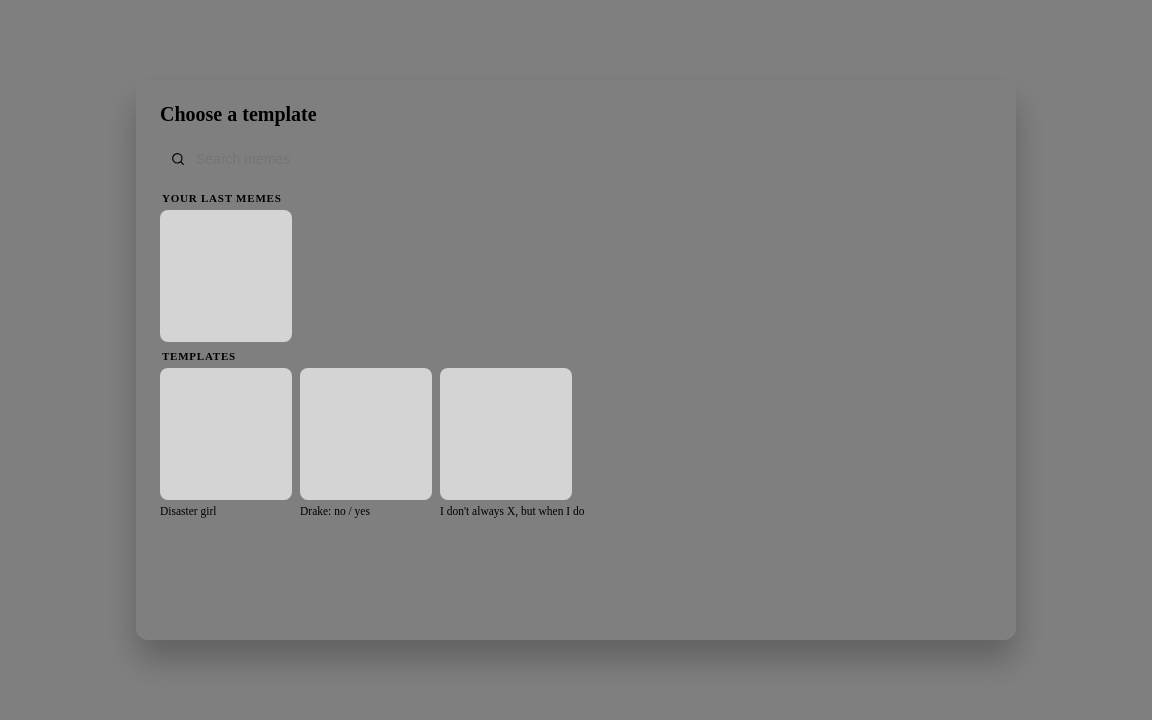
Test: MemeDialog: starts with the gallery from /meme, then edits the chosen template
This screenshot has width=1152, height=720.
Check: the dialog "Choose a template" is shown, box top-left (136, 80), bottom-right (1016, 640)
Check: the text "Your last memes" is shown, box top-left (162, 192), bottom-right (282, 204)
Click the button "Disaster girl" at {"x": 226, "y": 443}, box top-left (160, 368), bottom-right (292, 518)
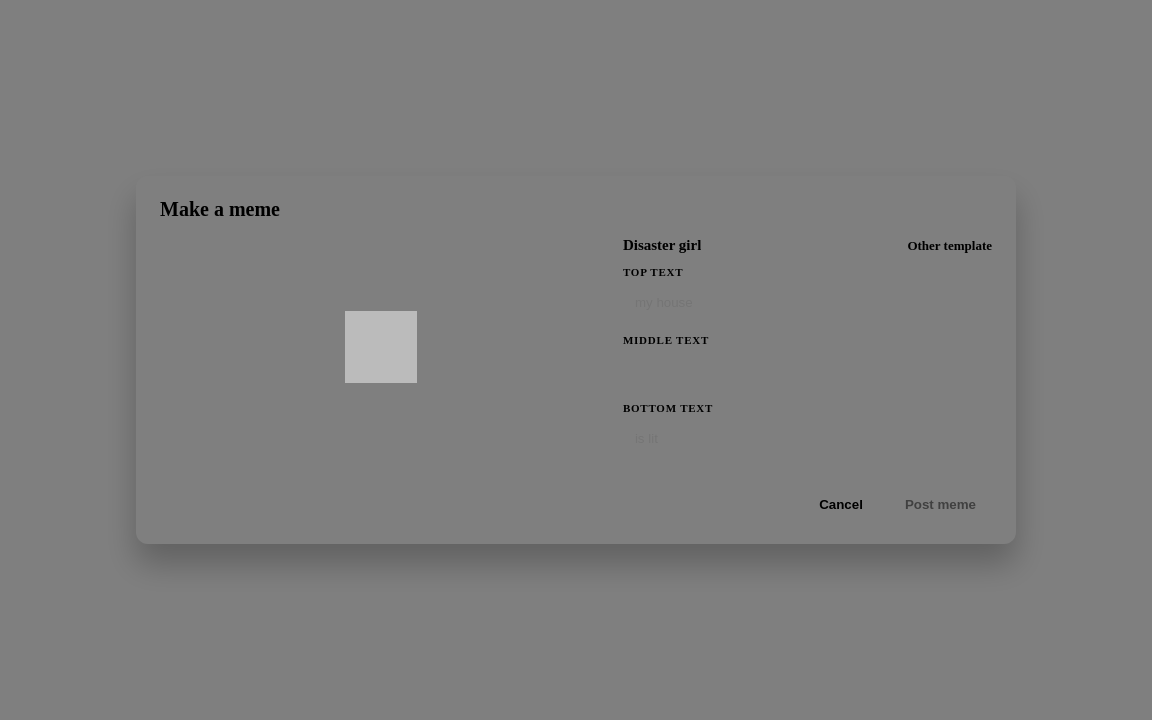
Check: the dialog "Make a meme" is shown, box top-left (136, 176), bottom-right (1016, 544)
Click the button "Other template" at {"x": 950, "y": 246}, box top-left (907, 238), bottom-right (992, 254)
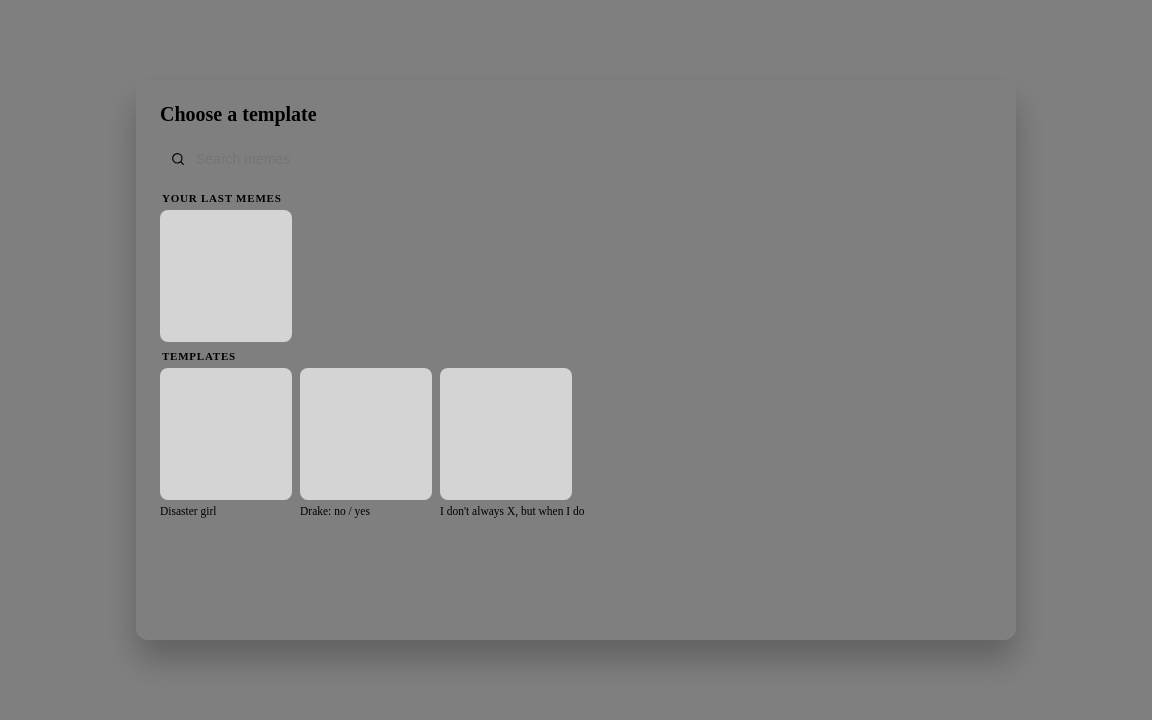
Check: the dialog "Choose a template" is shown, box top-left (136, 80), bottom-right (1016, 640)
